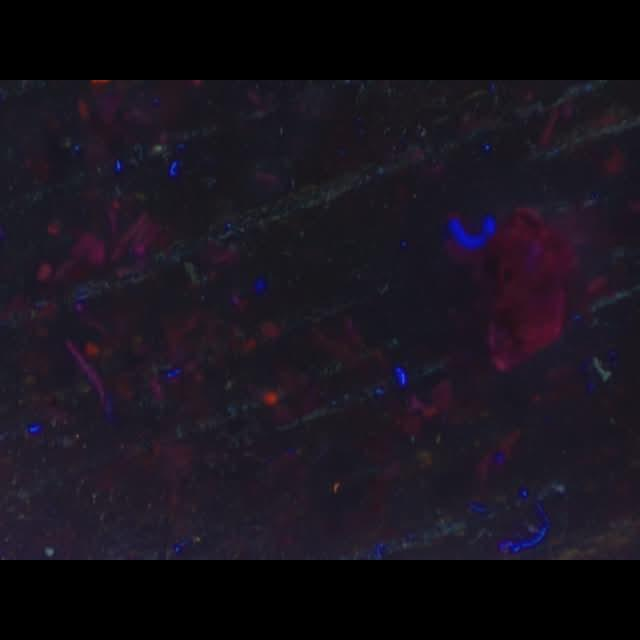microbeads: (45, 547, 55, 557)
